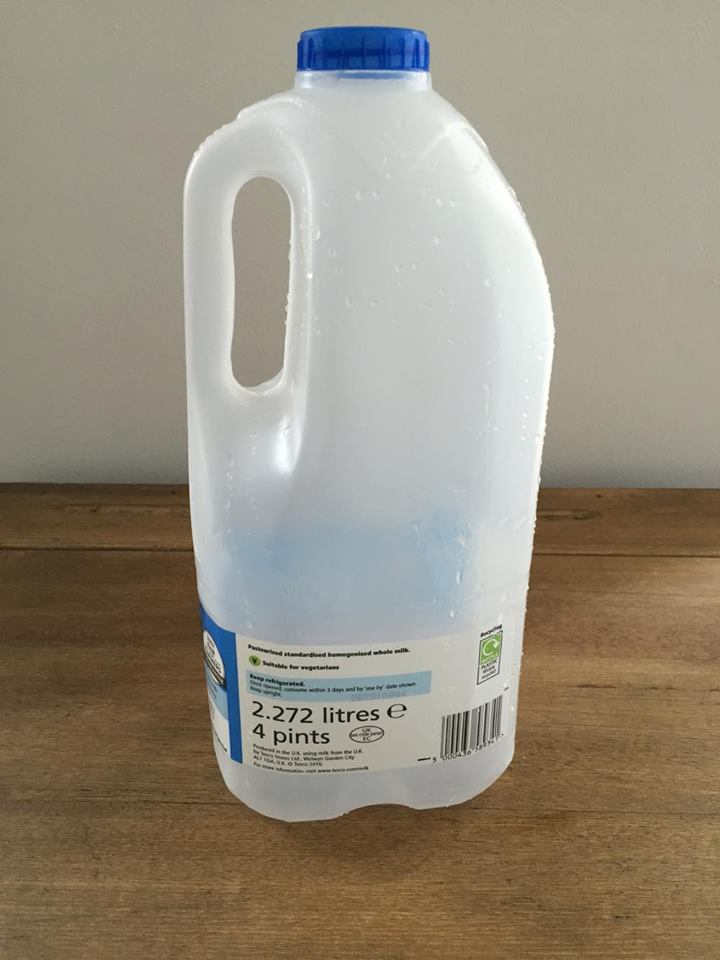Rec_Plastic: (123, 1, 538, 858)
